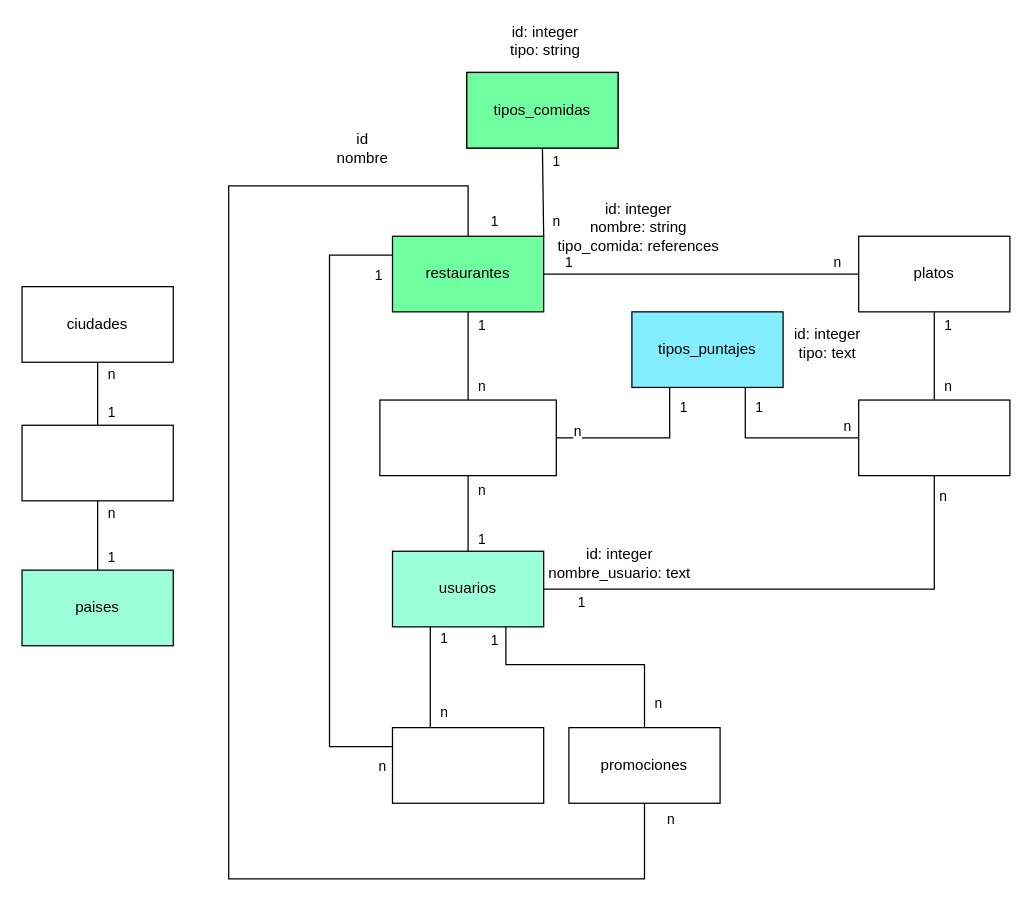
Image size: 1032x902. Some labels were removed from this diagram. The shapes that lost their labels are listed below. From the top down, each one's box as (x1, y1, x2, y2) in pixels, then its label:
(379, 399, 556, 476): puntajes_restaurantes
(857, 399, 1010, 476): puntajes_platos
(21, 424, 173, 501): regiones
(391, 726, 544, 803): invitaciones
